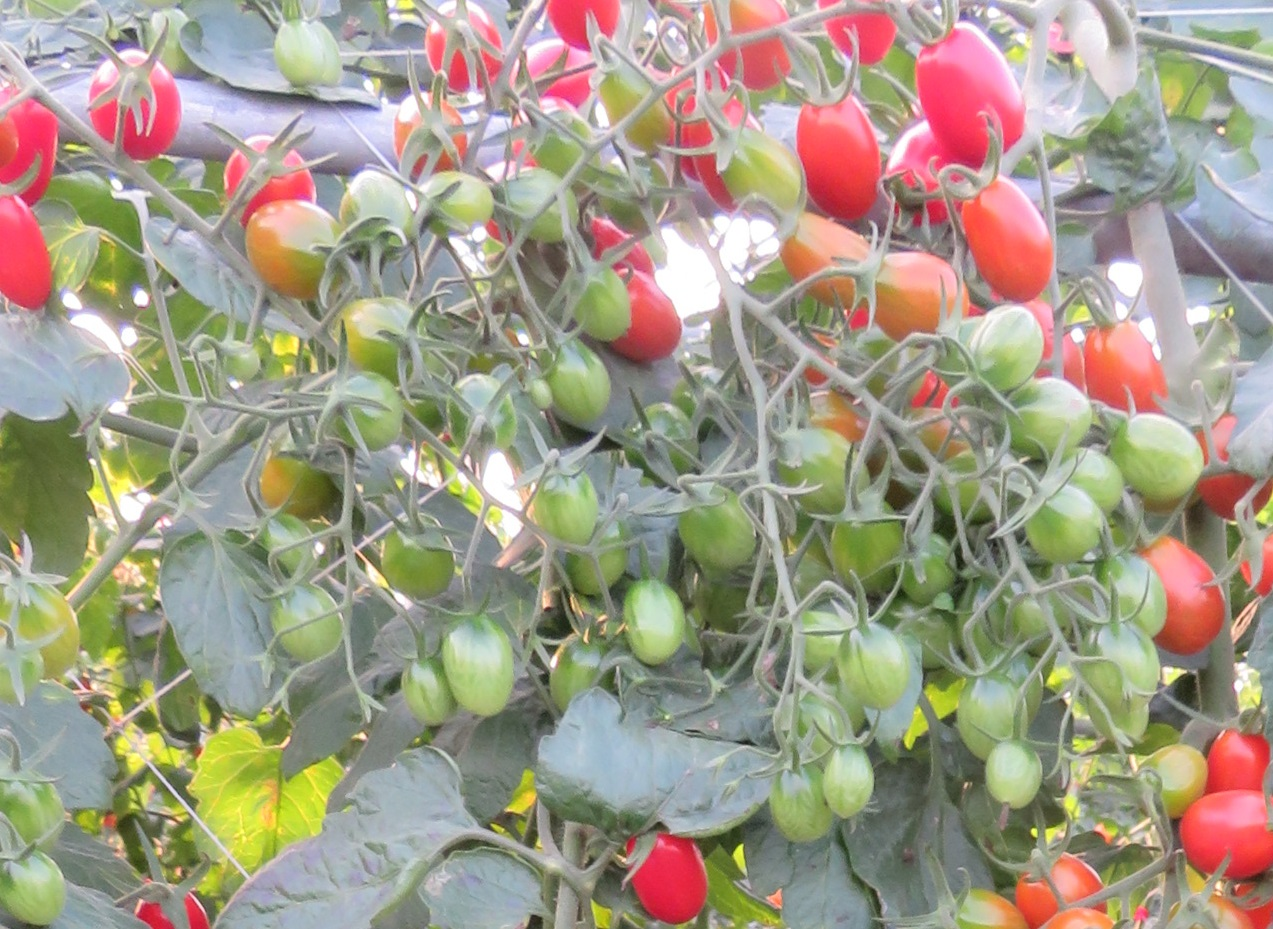green: (238, 196, 335, 302), (328, 294, 428, 377), (1, 575, 80, 679), (1114, 413, 1206, 501), (778, 428, 870, 512), (826, 506, 905, 598), (1008, 374, 1095, 456), (442, 621, 512, 716), (494, 167, 579, 244), (930, 447, 1017, 521), (1, 829, 71, 920), (725, 126, 802, 208), (836, 621, 908, 706), (267, 579, 343, 659), (383, 516, 454, 601), (1021, 486, 1103, 559), (326, 373, 404, 449), (537, 329, 604, 417), (600, 72, 670, 156), (615, 576, 685, 659), (450, 373, 520, 456), (273, 16, 346, 92), (677, 496, 754, 568), (626, 403, 696, 482), (1106, 554, 1169, 640), (563, 518, 628, 599), (140, 1, 207, 79), (960, 679, 1024, 759), (564, 259, 627, 339), (768, 755, 822, 847), (979, 308, 1042, 386), (816, 746, 879, 822), (1090, 625, 1157, 694), (529, 467, 591, 539), (537, 635, 596, 710), (1143, 745, 1211, 810), (1, 776, 65, 842), (430, 167, 494, 232), (899, 533, 956, 605), (527, 109, 596, 168), (984, 752, 1046, 813), (341, 167, 394, 236), (402, 659, 452, 732), (256, 516, 317, 573), (216, 340, 261, 382), (523, 376, 554, 409)
orange: (959, 179, 1056, 298), (1148, 537, 1229, 655), (1199, 410, 1273, 523), (1081, 323, 1167, 408), (863, 249, 947, 333)
red: (902, 35, 1027, 150), (797, 100, 879, 225), (89, 47, 181, 158), (1173, 791, 1273, 885), (885, 119, 961, 227), (223, 135, 318, 216), (1, 81, 61, 207), (424, 1, 505, 93), (624, 836, 705, 922), (1, 195, 55, 309), (1014, 854, 1107, 920), (513, 37, 594, 107), (629, 270, 681, 361), (548, 1, 621, 55), (1209, 732, 1273, 788), (134, 884, 209, 929)
